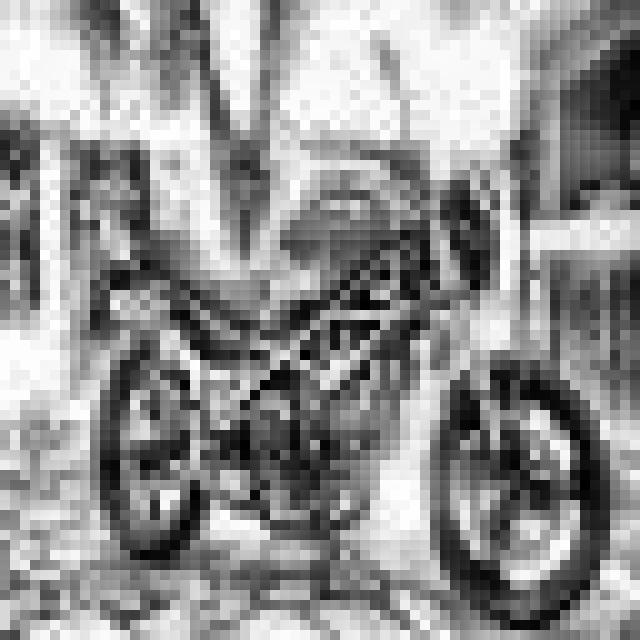mopeds: (72, 91, 626, 634)
